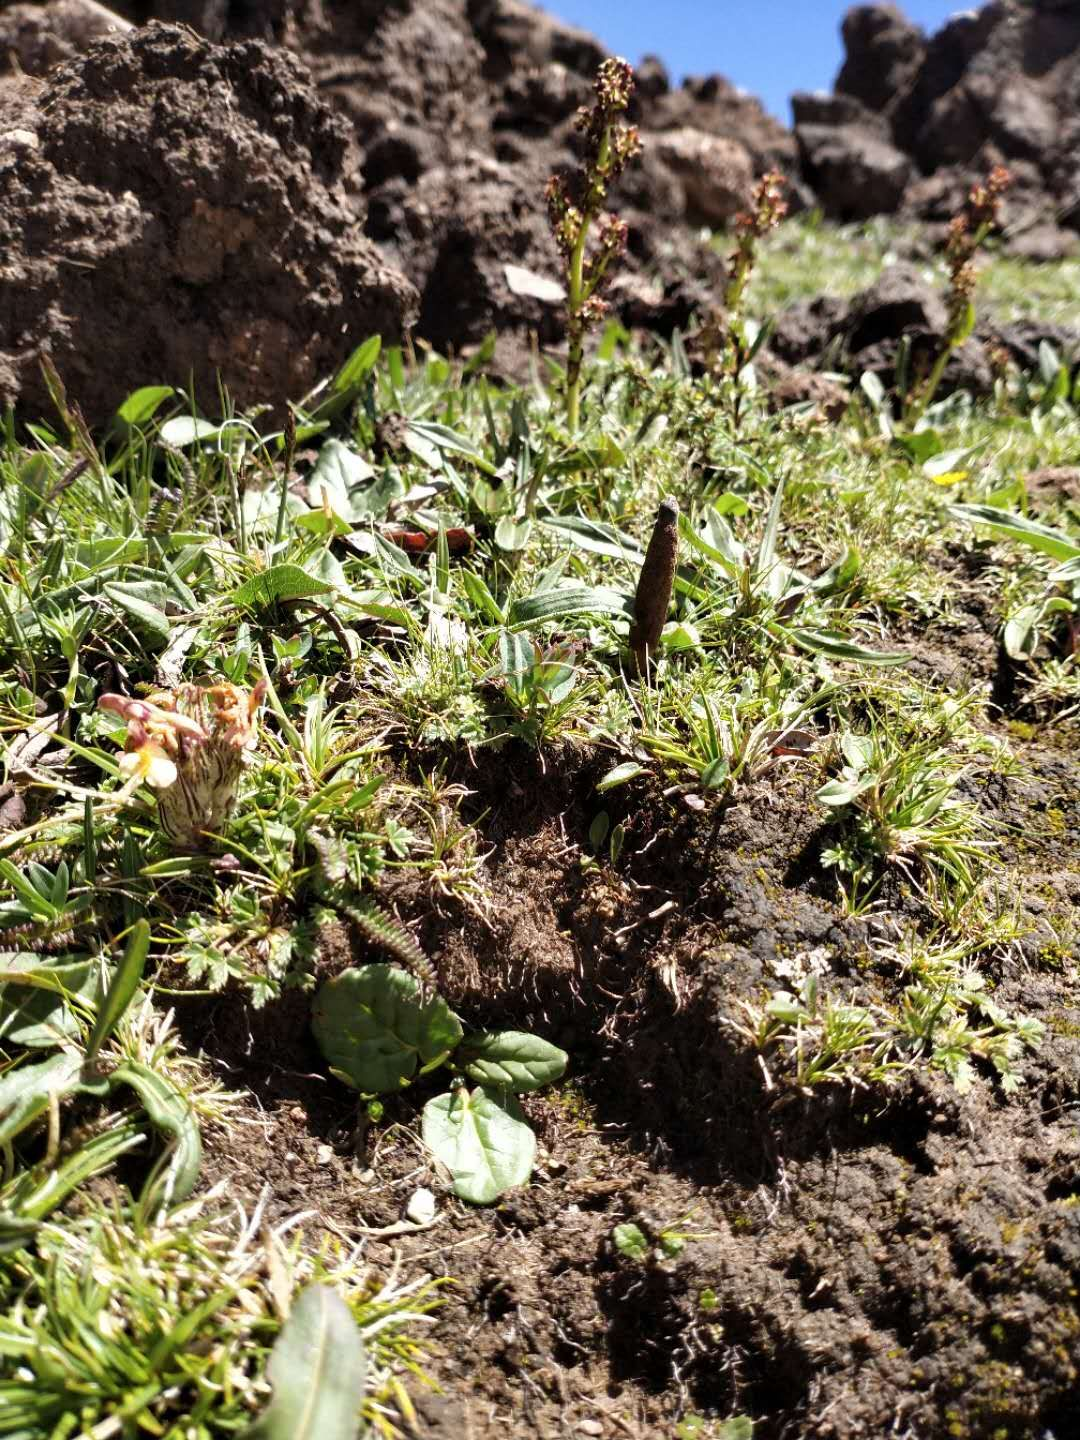cpf: (621, 494, 685, 679)
